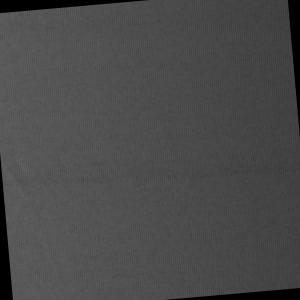Wrinkle: (2, 149, 300, 203), (4, 154, 89, 300)
